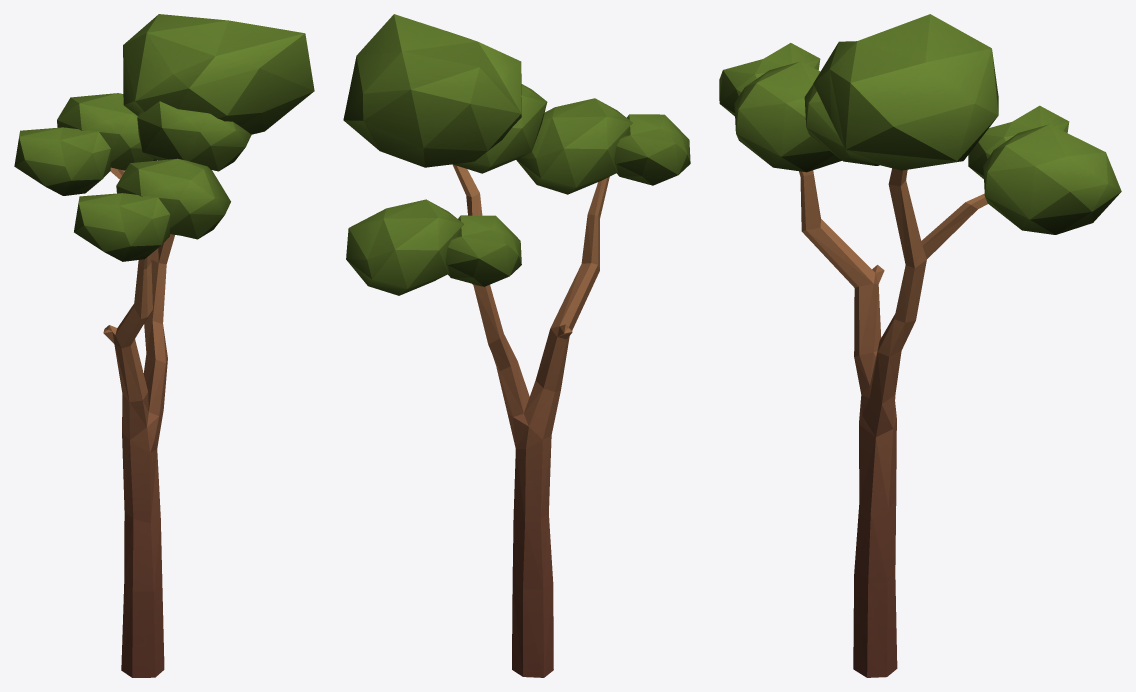
The model's file is ZLP_Plant_E_1.FBX.
3 renders of one model, left to right at view 1: azimuth 30°, elevation 25°; view 2: azimuth 150°, elevation 25°; view 3: azimuth 270°, elevation 25°, orthographic. The views are drawn at different scales.
Parts seen in each view (by area): view 1: ZLP_Plant_E_1; view 2: ZLP_Plant_E_1; view 3: ZLP_Plant_E_1.
Boxes of the visible parts, bbox=[...] form: ZLP_Plant_E_1: bbox=[14, 14, 314, 677]; ZLP_Plant_E_1: bbox=[343, 14, 690, 677]; ZLP_Plant_E_1: bbox=[719, 14, 1121, 677].
Bounding box in the file's own units: 321 × 682 × 372.
